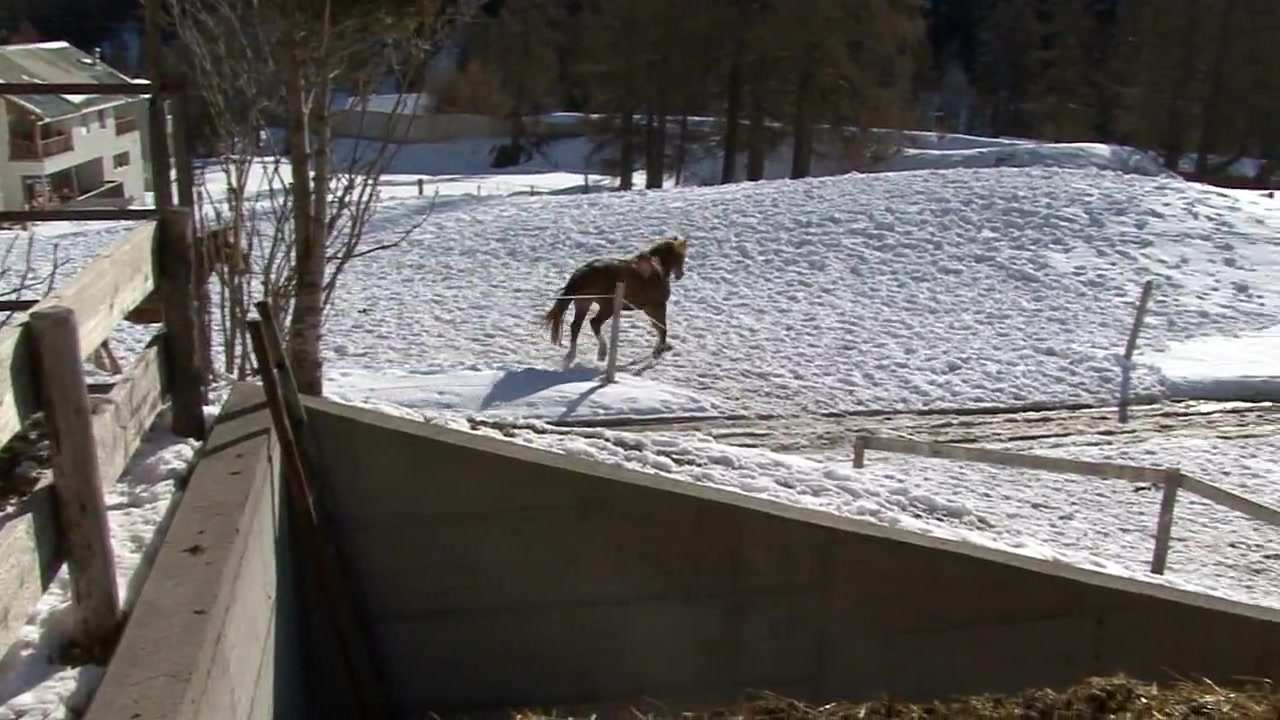horse: (544, 236, 691, 369)
